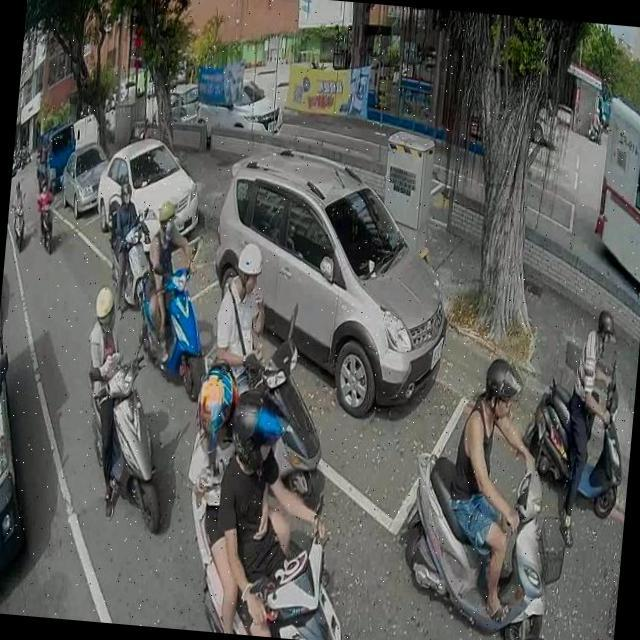person: (175, 356, 301, 638), (210, 391, 345, 640), (439, 347, 548, 630), (556, 299, 630, 533), (77, 278, 142, 520), (209, 238, 275, 402), (140, 192, 198, 364), (101, 180, 144, 310), (34, 176, 56, 243), (10, 177, 29, 235), (507, 618, 553, 640), (590, 106, 602, 136)
